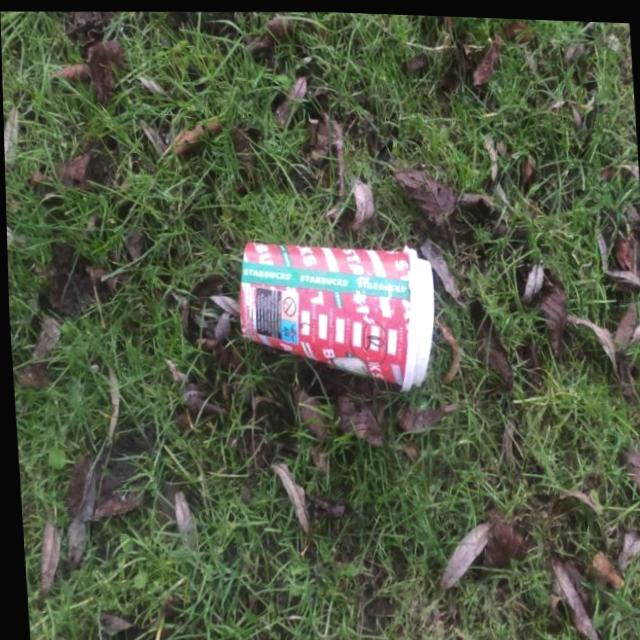Cup: (232, 229, 438, 397)
